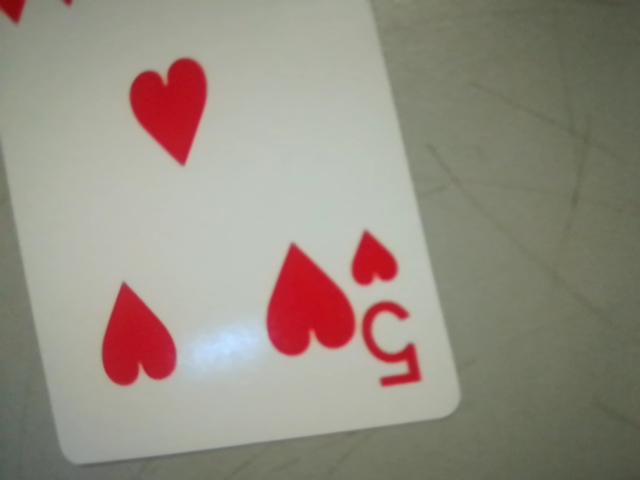hx 5: (343, 215, 436, 405)
